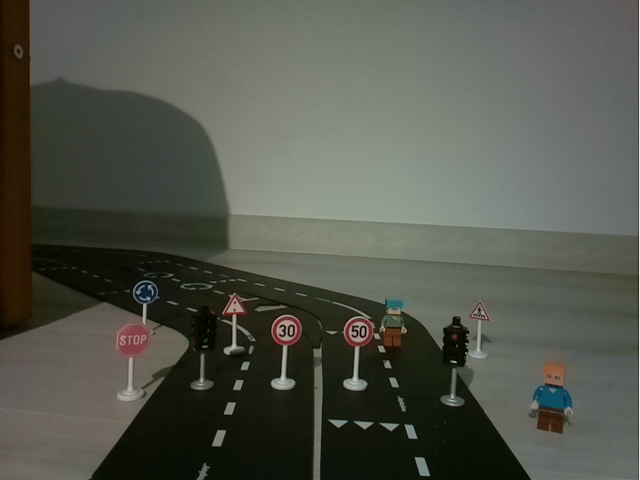green light: (187, 306, 219, 392)
limit 30: (267, 311, 303, 396)
limit 50: (343, 314, 372, 394)
pedestrian sign: (469, 297, 492, 363)
person: (527, 358, 581, 442)
red light: (441, 316, 468, 409)
round: (131, 280, 161, 323)
second person: (375, 294, 410, 354)
stop: (115, 324, 153, 403)
traffic light sign: (221, 291, 250, 359)
